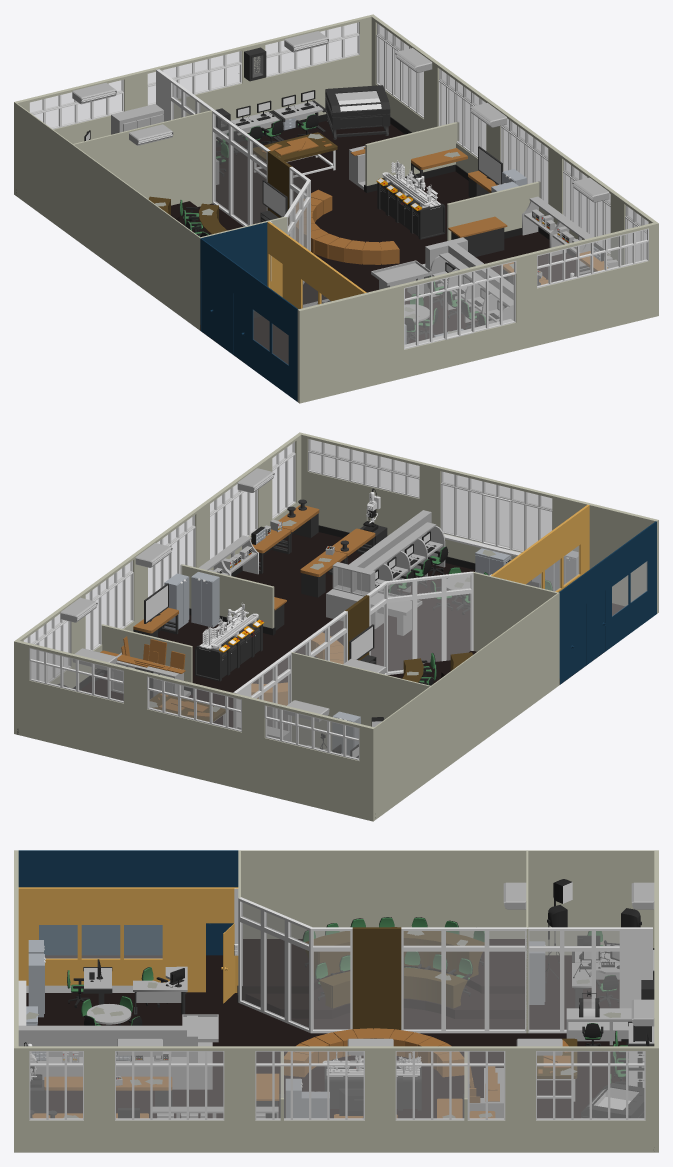
The model's file is TODOS.fbx.
3 renders of one model, top to bottom at view 1: azimuth 30°, elevation 25°; view 2: azimuth 150°, elevation 25°; view 3: azimuth 270°, elevation 25°, orthographic. The views are drawn at different scales.
Parts seen in each view (by area): view 1: Plano.001, Plano, Plano.021, Plano.017, Plano.045, Plano.004, Plano.019, Plano.018, Plano.032, Plano.022, Plano.023, Plano.050 (+36 smaller); view 2: Plano.001, Plano, Plano.017, Plano.023, Plano.019, Plano.022, Plano.004, Plano.045, Plano.021, Plano.032, Plano.052, Plano.016 (+39 smaller); view 3: Plano.017, Plano.001, Plano, Plano.002, Plano.032, Plano.050, Plano.028, Plano.042, Plano.049, Plano.052, Plano.007, Plano.048 (+43 smaller).
Boxes of the visible parts, <box> form: Plano.001: <box>14,102,200,330</box>; Plano: <box>198,120,576,364</box>; Plano.021: <box>366,254,526,386</box>; Plano.017: <box>370,14,621,265</box>; Plano.045: <box>524,222,658,347</box>; Plano.004: <box>72,110,287,311</box>; Plano.019: <box>252,15,371,128</box>; Plano.018: <box>297,293,368,403</box>; Plano.032: <box>200,238,298,401</box>; Plano.022: <box>134,44,253,140</box>; Plano.023: <box>14,73,136,195</box>; Plano.050: <box>214,115,266,225</box>; Plano.001: <box>372,592,559,819</box>; Plano: <box>80,532,624,730</box>; Plano.017: <box>14,459,266,688</box>; Plano.023: <box>253,698,375,821</box>; Plano.019: <box>14,640,136,763</box>; Plano.022: <box>135,669,254,792</box>; Plano.004: <box>289,571,558,778</box>; Plano.045: <box>298,432,431,535</box>; Plano.021: <box>430,464,589,563</box>; Plano.032: <box>559,521,656,684</box>; Plano.052: <box>388,575,470,671</box>; Plano.016: <box>326,522,445,620</box>; Plano.017: <box>97,1046,658,1152</box>; Plano.001: <box>239,850,658,955</box>; Plano: <box>26,955,628,1118</box>; Plano.002: <box>18,887,238,992</box>; Plano.032: <box>18,850,238,955</box>; Plano.050: <box>403,931,524,1030</box>; Plano.028: <box>310,927,527,1033</box>; Plano.042: <box>18,1046,97,1152</box>; Plano.049: <box>529,931,619,1030</box>; Plano.052: <box>241,902,308,1028</box>; Plano.007: <box>18,1025,186,1089</box>; Plano.048: <box>242,939,524,1000</box>.
Bounding box in the file's own units: 1289 × 316 × 1763.
